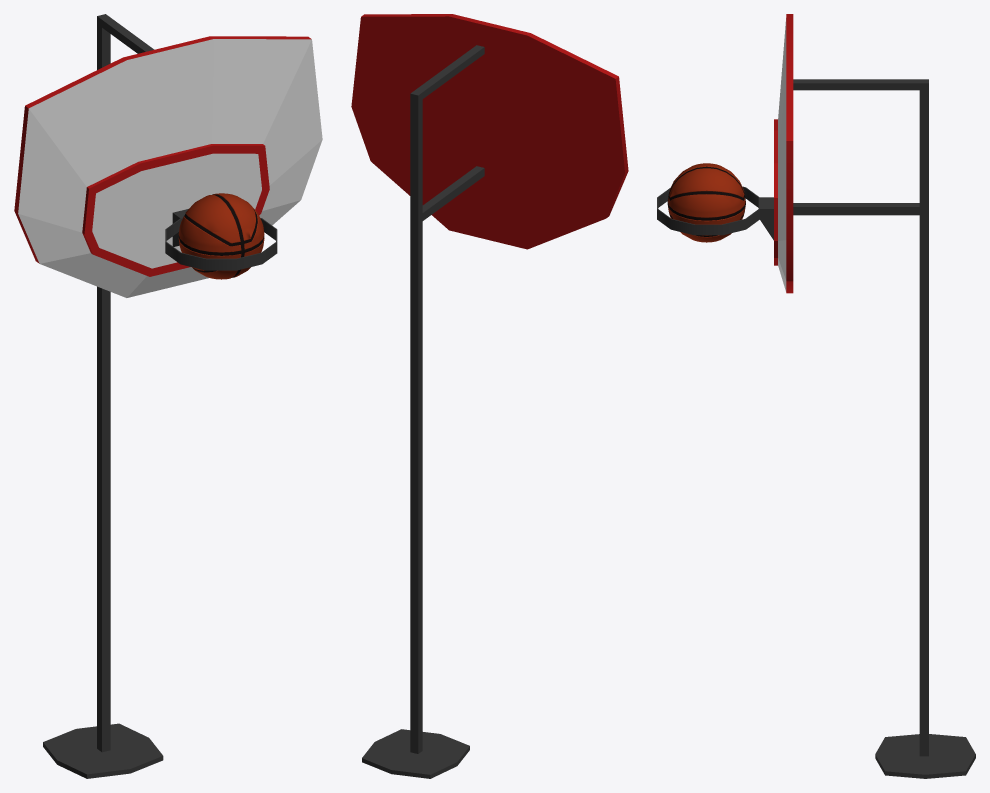
The model's file is basketball hoop.FBX.
The picture shows the model from 3 angles, left to right: view 1: azimuth 30°, elevation 25°; view 2: azimuth 150°, elevation 25°; view 3: azimuth 270°, elevation 25°; orthographic projection. The views are drawn at different scales.
Parts seen in each view (by area): view 1: basketball hoop, basketball; view 2: basketball hoop; view 3: basketball hoop, basketball.
Part boxes in pixels (x1,y1,x2,y2): basketball hoop: (14,14,322,778); basketball: (178,193,264,279); basketball hoop: (351,14,628,778); basketball hoop: (657,14,975,778); basketball: (667,163,745,242).
Bounding box in the file's own units: 1397 × 3337 × 1378.
